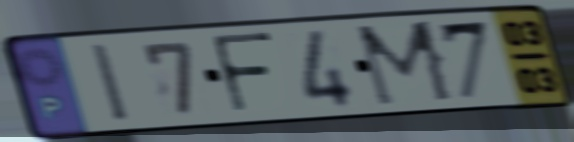4: (300, 25, 356, 112)
7: (434, 19, 496, 102), (138, 38, 196, 119)
F: (207, 30, 278, 118)
I: (87, 40, 135, 126)
M: (351, 17, 460, 111)
